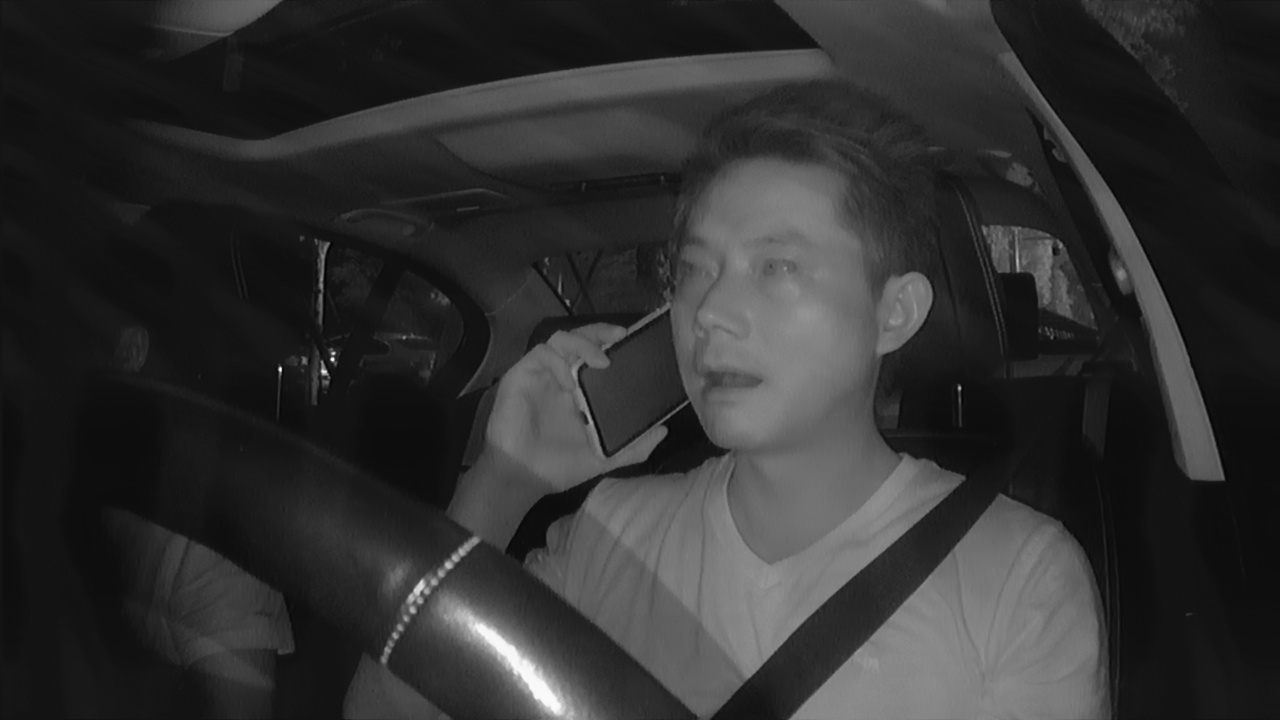hand: (473, 316, 664, 510)
